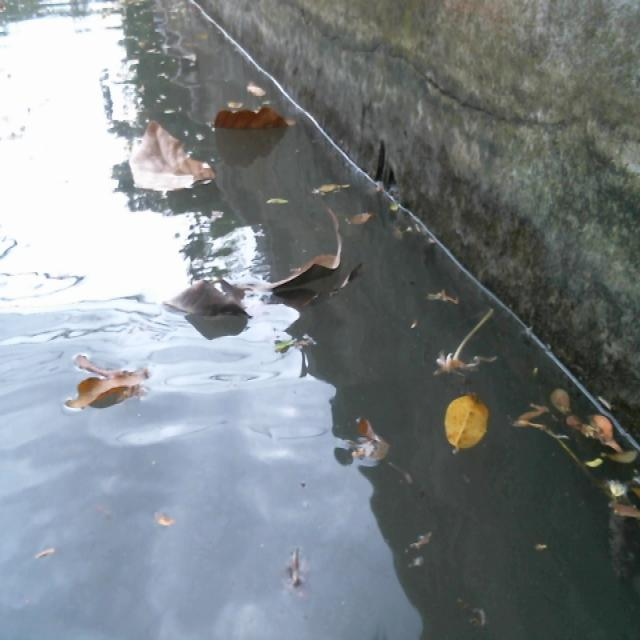Big-leaf: (162, 210, 352, 327), (52, 327, 155, 429), (122, 114, 217, 204), (212, 108, 302, 141)
Small-leaf: (447, 386, 491, 468), (335, 403, 388, 468), (283, 533, 308, 604), (348, 206, 388, 238), (309, 174, 358, 200), (588, 413, 618, 455), (615, 498, 640, 543), (421, 282, 456, 306), (140, 511, 185, 528), (242, 74, 275, 97), (262, 190, 295, 212), (559, 385, 576, 417), (612, 472, 632, 498)
